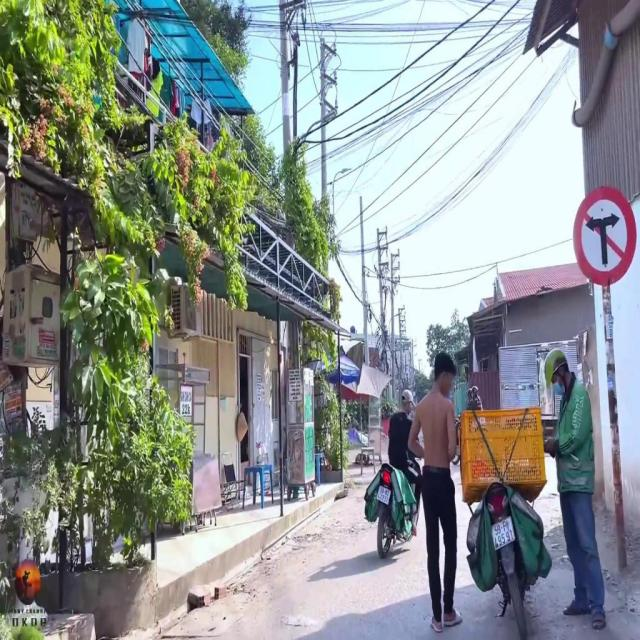cam_re_trai_va_phai: (572, 182, 637, 285)
